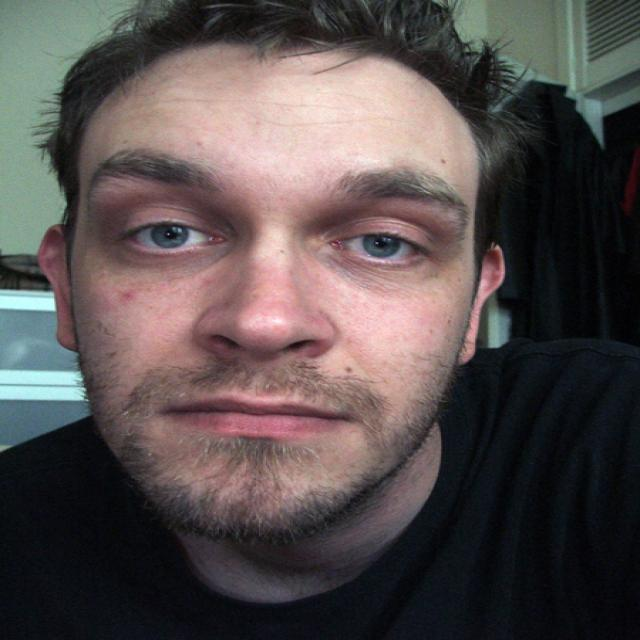earlobe: (458, 244, 504, 366), (36, 224, 78, 354)
